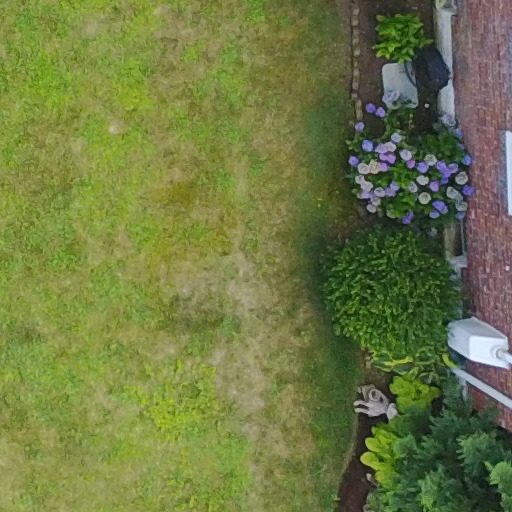container: (366, 375, 400, 425)
